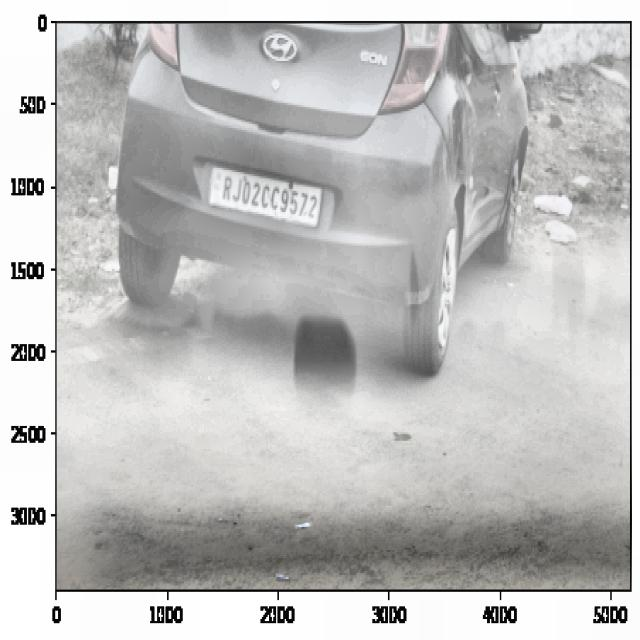license_plate: (219, 172, 324, 226)
